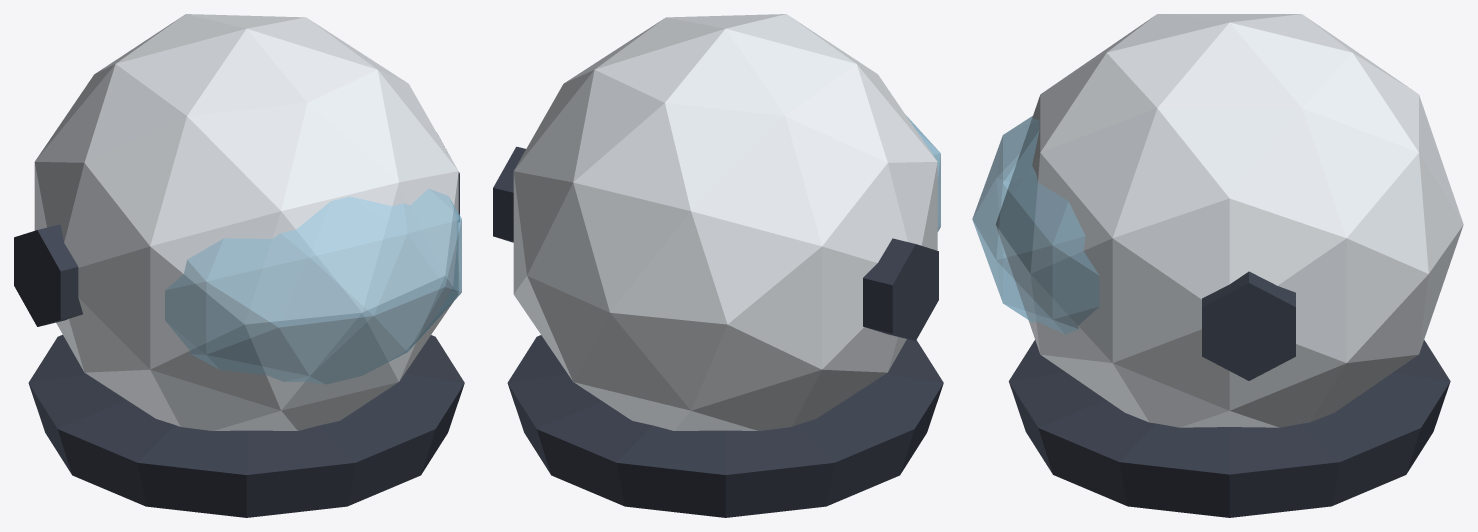
Rendered from Helmet.fbx.
The picture shows the model from 3 angles, left to right: view 1: azimuth 30°, elevation 25°; view 2: azimuth 150°, elevation 25°; view 3: azimuth 270°, elevation 25°; orthographic projection.
Parts seen in each view (by area): view 1: SM_Helmet_MAT_HullWhite, SM_Helmet_MAT_HullDark, SM_Helmet_MAT_Glass; view 2: SM_Helmet_MAT_HullWhite, SM_Helmet_MAT_HullDark, SM_Helmet_MAT_Glass; view 3: SM_Helmet_MAT_HullWhite, SM_Helmet_MAT_HullDark, SM_Helmet_MAT_Glass.
Part boxes in pixels (<box>): SM_Helmet_MAT_HullWhite: <box>34,14,458,430</box>; SM_Helmet_MAT_HullDark: <box>14,133,464,517</box>; SM_Helmet_MAT_Glass: <box>165,188,461,384</box>; SM_Helmet_MAT_HullWhite: <box>513,14,937,430</box>; SM_Helmet_MAT_HullDark: <box>493,146,943,517</box>; SM_Helmet_MAT_Glass: <box>905,114,940,231</box>; SM_Helmet_MAT_HullWhite: <box>995,14,1463,427</box>; SM_Helmet_MAT_HullDark: <box>1008,271,1450,517</box>; SM_Helmet_MAT_Glass: <box>972,116,1099,334</box>.
Size of the model in its own units: 0.6748 by 0.6524 by 0.7099.
